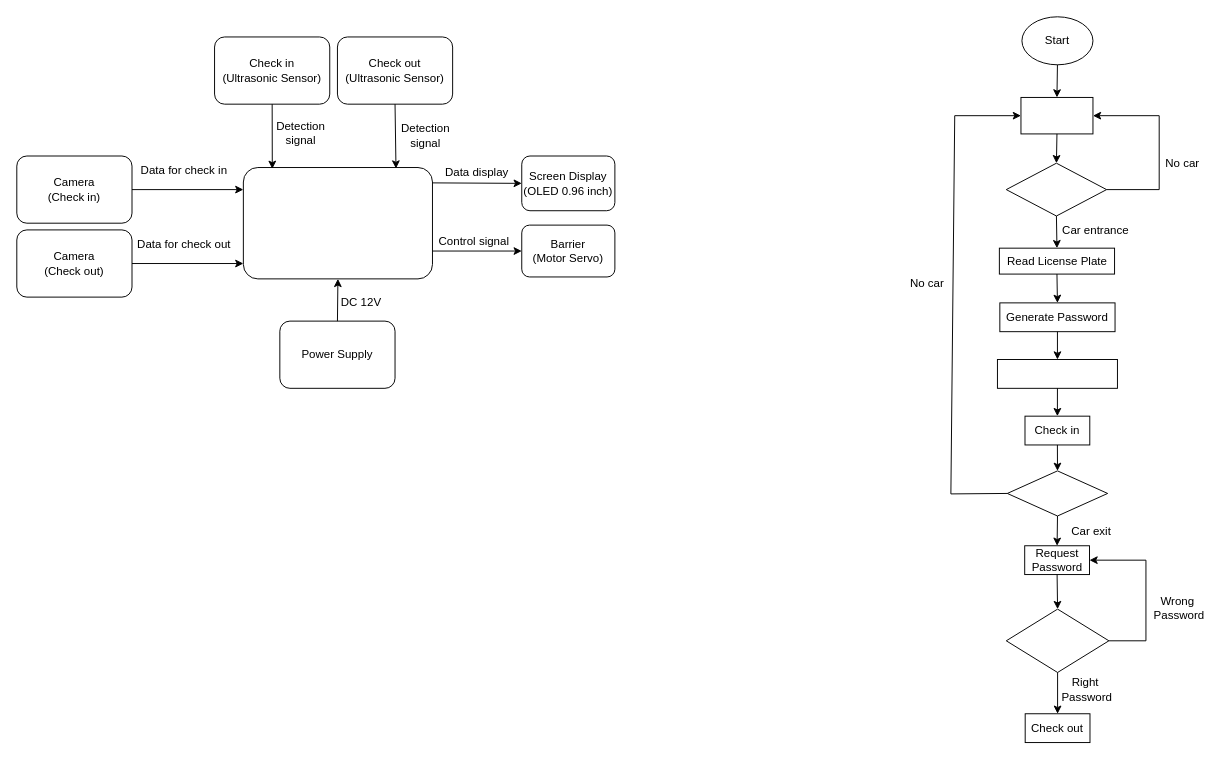
Some shapes in this 1231 by 759 pixel diagram are drawn without their labels. Here are the shapes that lost their labels. From the top down, the centre of each, then its label:
point (1056, 115): IDLE
point (1056, 189): Sensor Entrance
point (337, 223): FPGA Board (Altera DE2-70 Board)
point (1056, 373): Store License Plate pair with password
point (1057, 493): Sensor Exit
point (1057, 640): Check password
